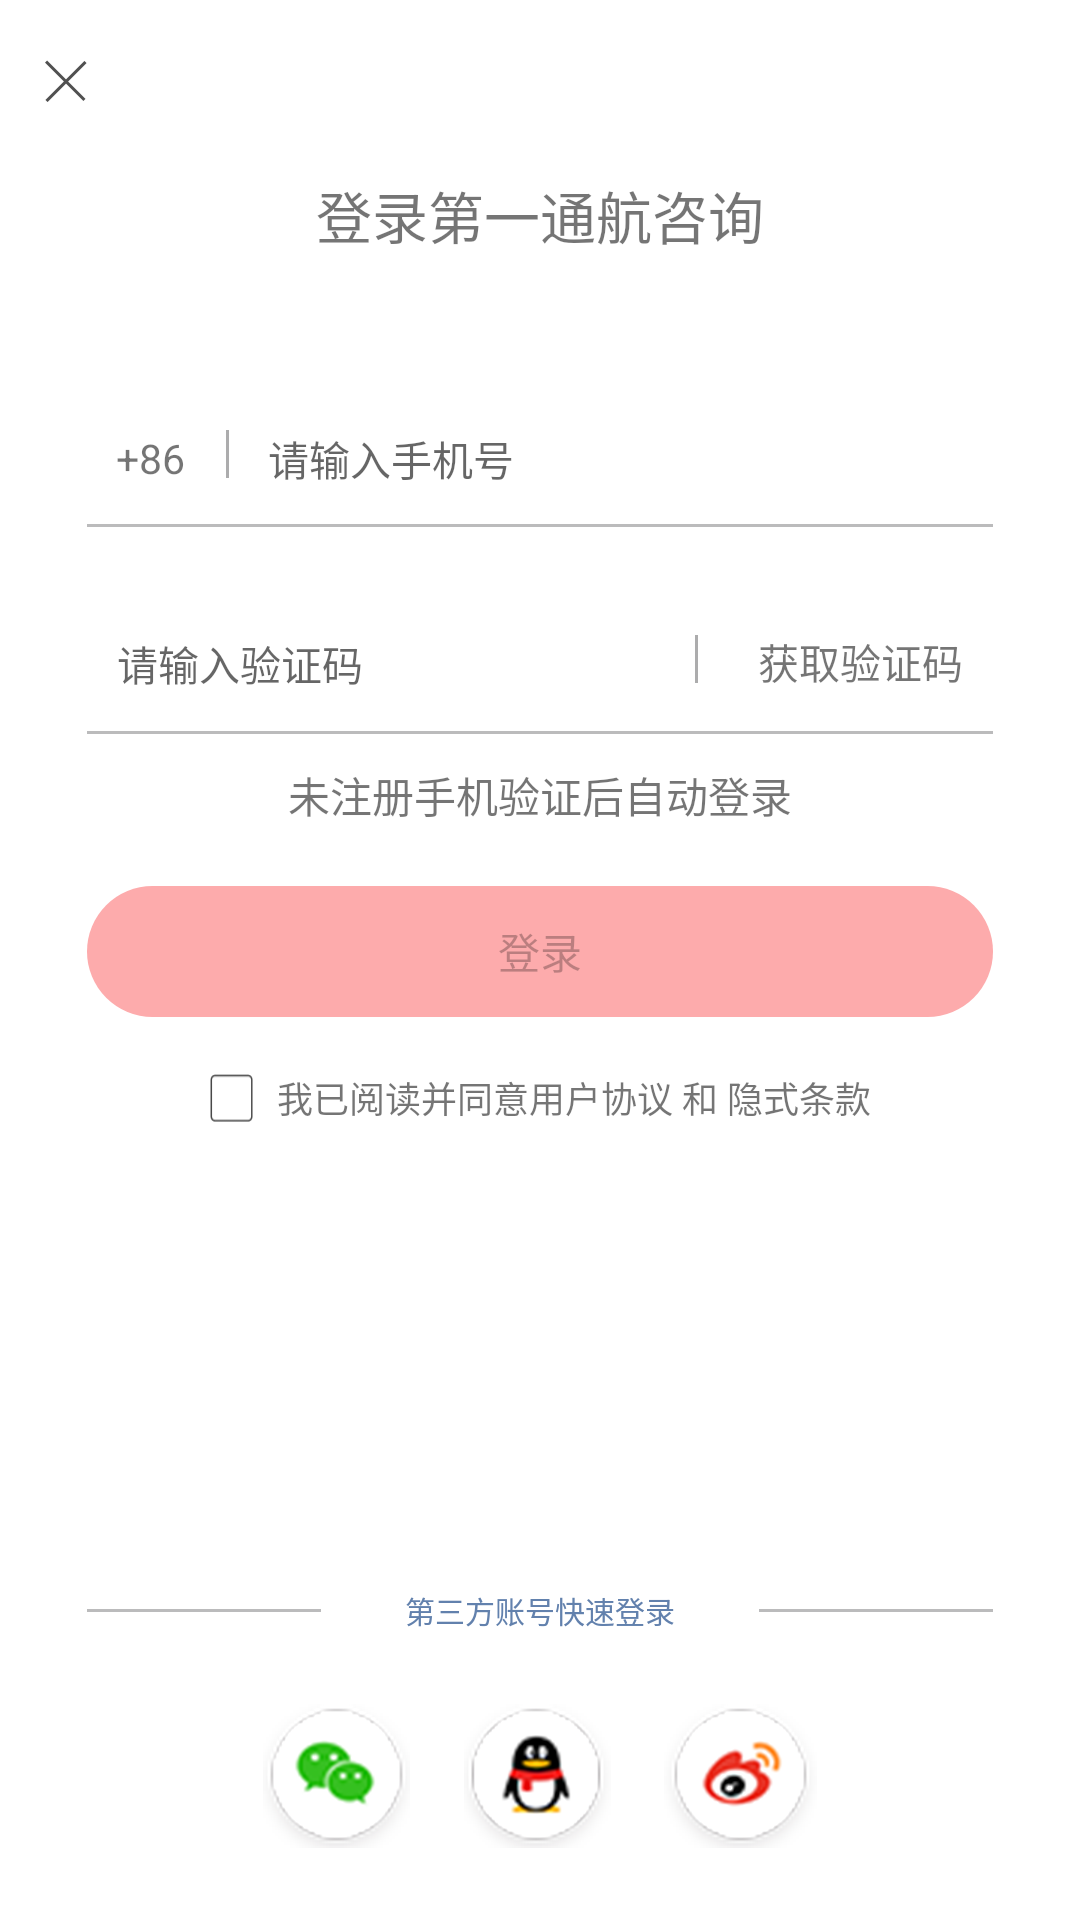

Point at icon controls on the screen. Image size 1080w x 1920h, points as point (x, y).
login close: point (66, 81)
